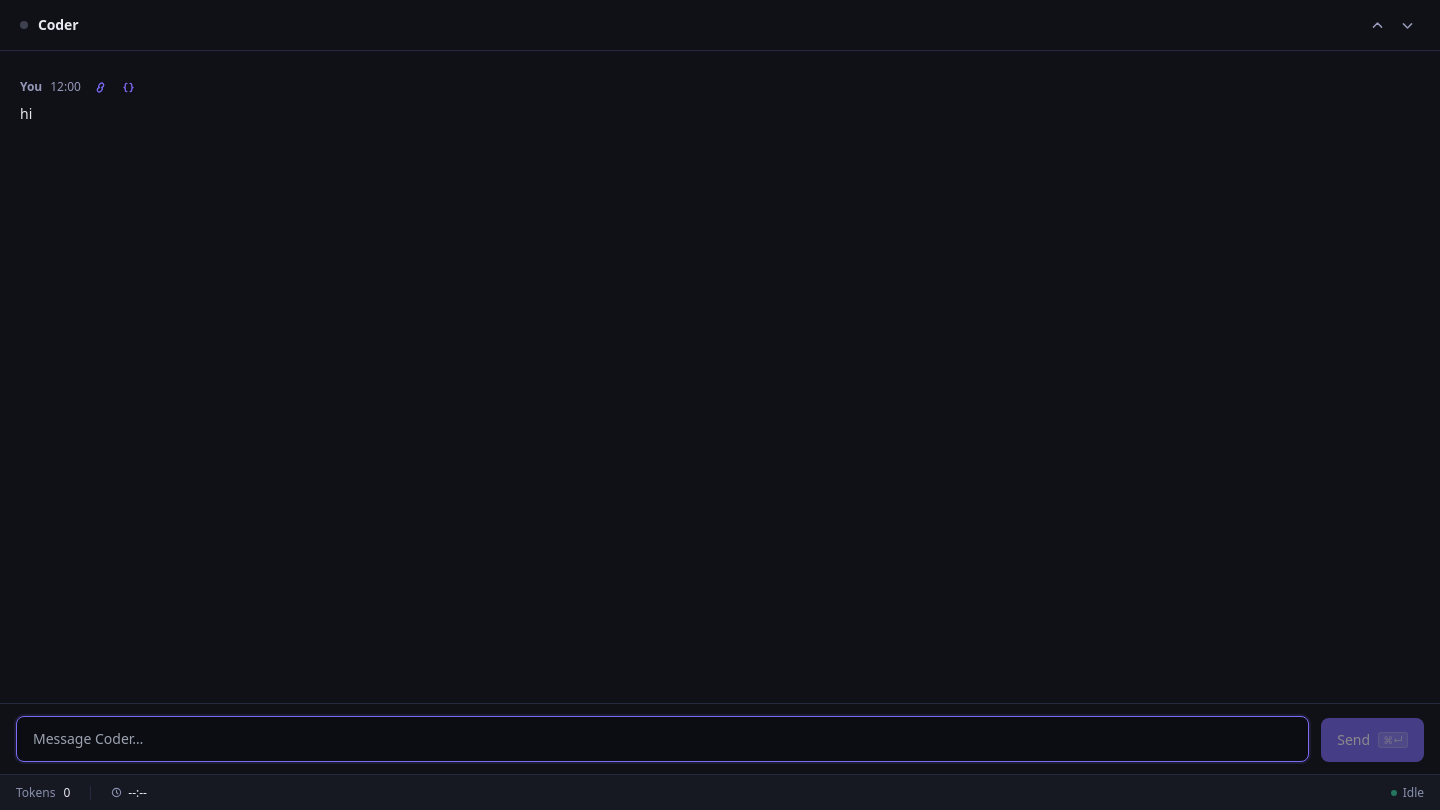
it: ChatArea raw-JSON modal › closes the modal on the close button
Click the button named "View raw JSON (message)": click(129, 87) 117,75 -> 141,99
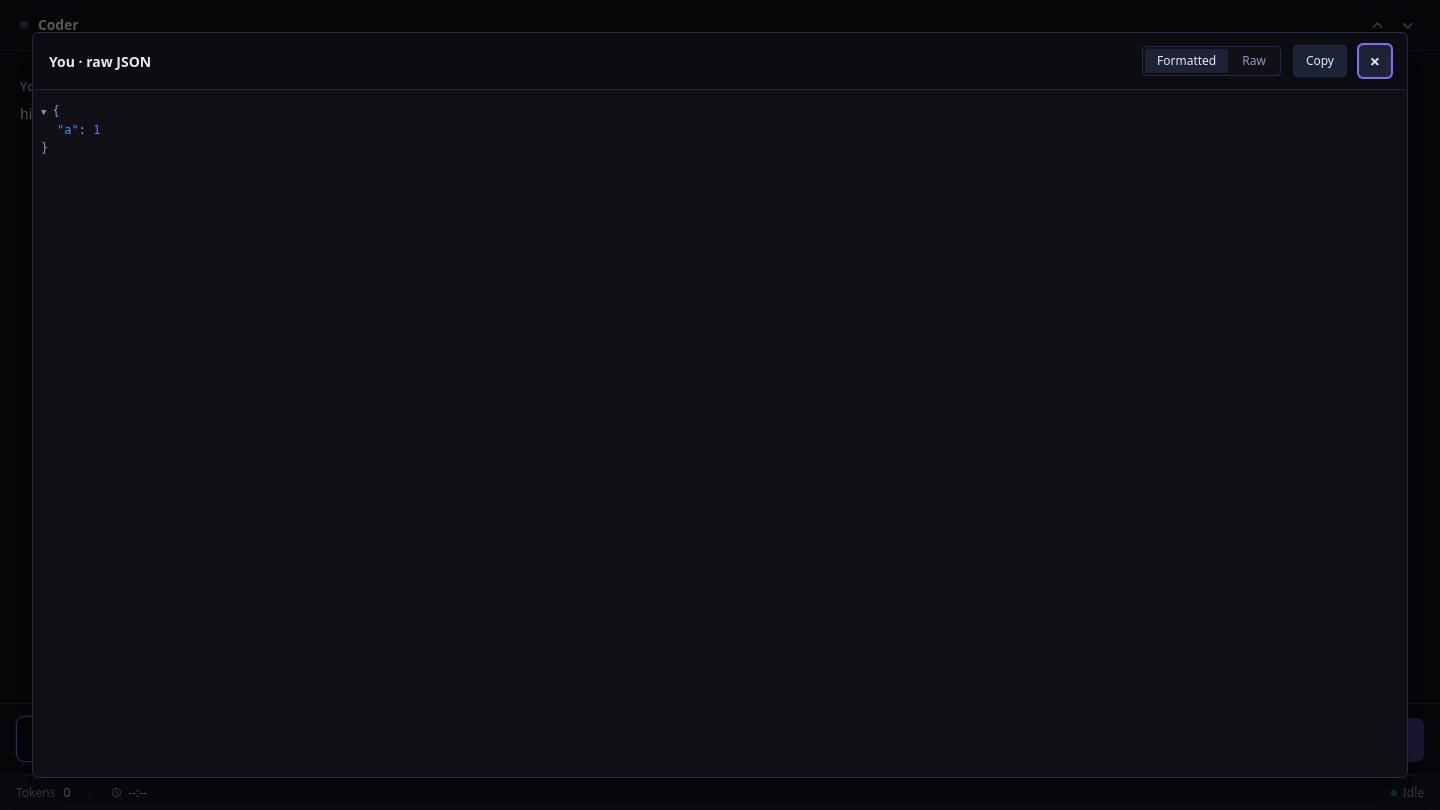
expect the dialog with test id "raw-json-modal" is shown: met
Click the button named "Close raw JSON view": click(1375, 61) 1359,45 -> 1391,77
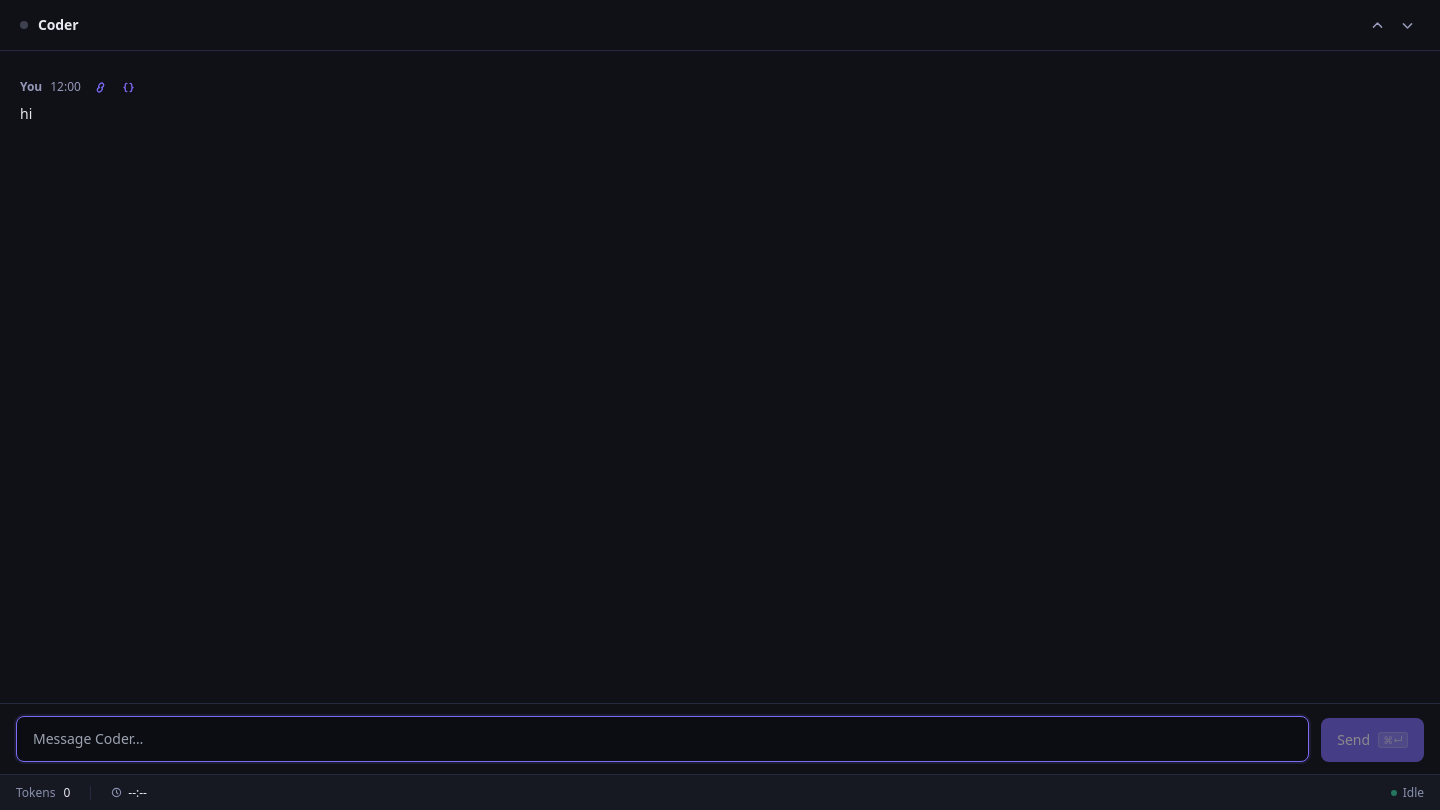
expect the dialog with test id "raw-json-modal" is gone: met
